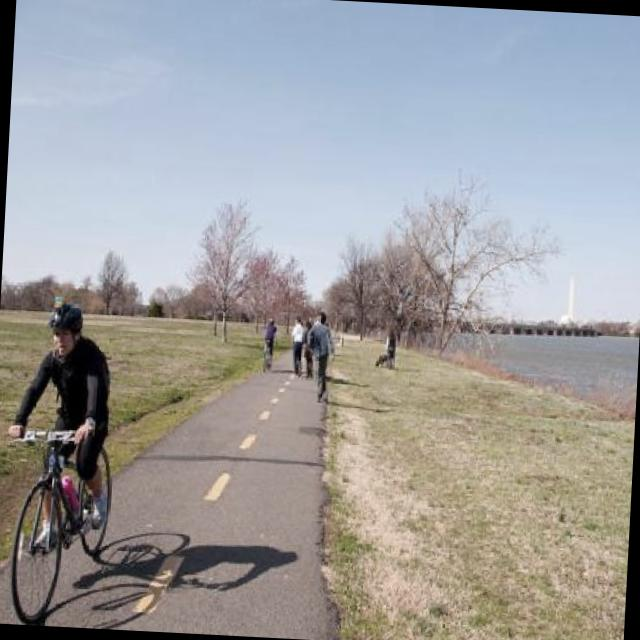Person: (0, 298, 116, 550), (301, 308, 337, 402), (288, 314, 306, 382), (260, 316, 278, 369), (300, 317, 314, 379), (384, 325, 396, 370), (333, 318, 338, 330), (324, 319, 327, 327)
